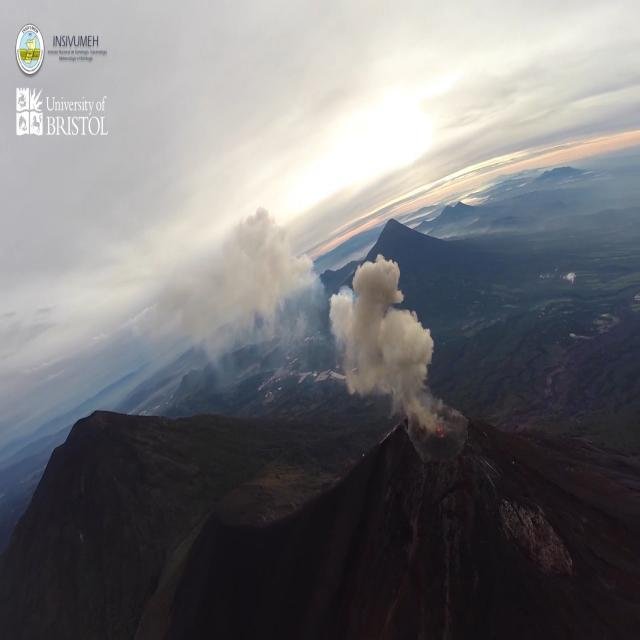Plume: (165, 207, 311, 351), (328, 248, 431, 402)
Summit: (380, 411, 498, 561)
